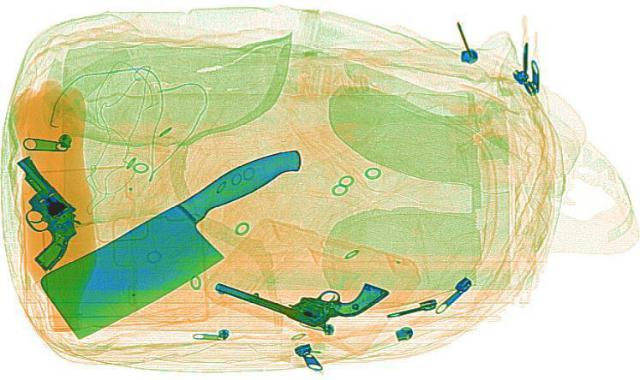Gun: (202, 263, 392, 330), (5, 153, 86, 267)
Knife: (0, 134, 366, 343)
